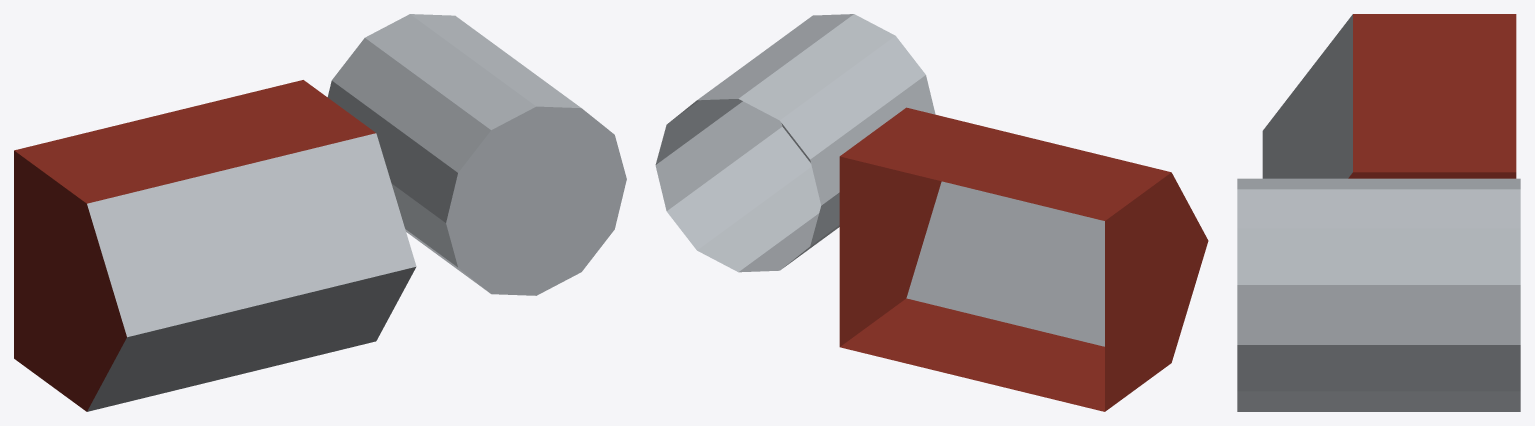
The model's file is island_bldg_10_07.obj.
3 views of the same model, side by side, from view 1: azimuth 30°, elevation 25°; view 2: azimuth 150°, elevation 25°; view 3: azimuth 270°, elevation 25° (orthographic). The views are drawn at different scales.
Visible parts, largest first — view 1: island_bldg_10_07; view 2: island_bldg_10_07; view 3: island_bldg_10_07.
Part boxes in pixels (<box>): island_bldg_10_07: <box>14,14,626,411</box>; island_bldg_10_07: <box>655,14,1208,411</box>; island_bldg_10_07: <box>1237,14,1520,411</box>.
Size of the model in its own units: 54 by 26 by 24.21.
